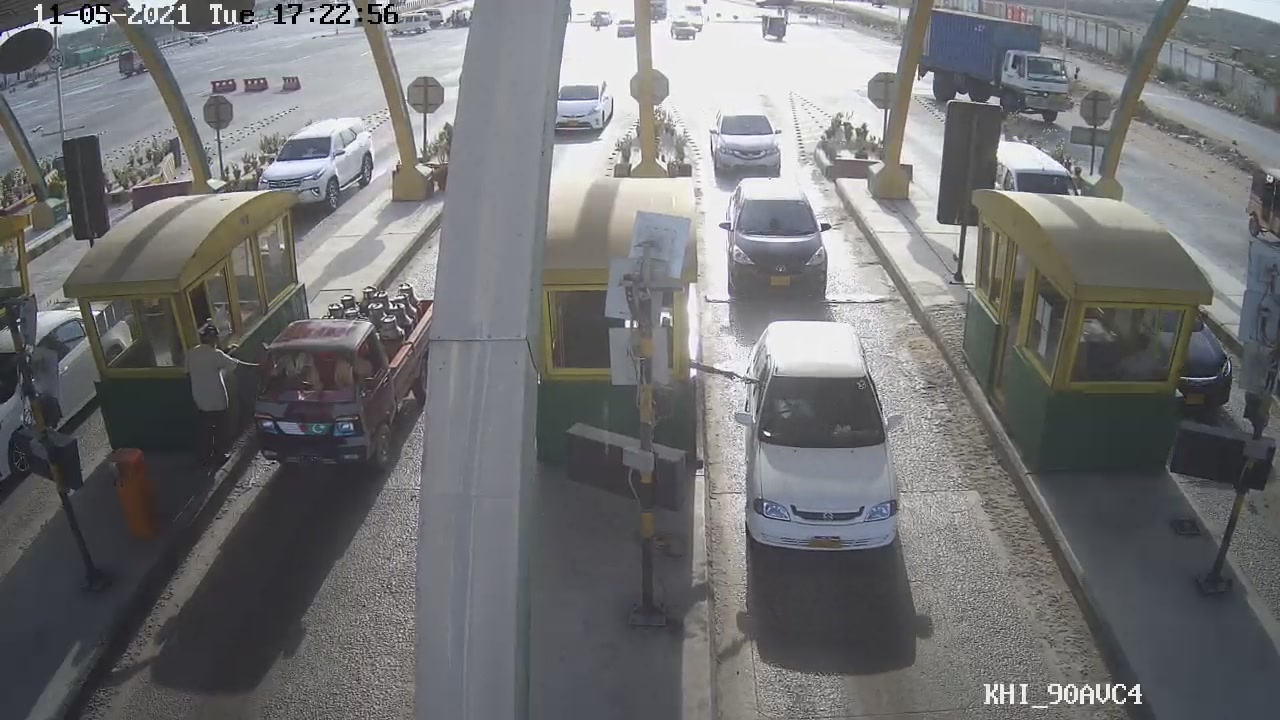F1: (725, 311, 914, 558), (713, 174, 848, 302)
